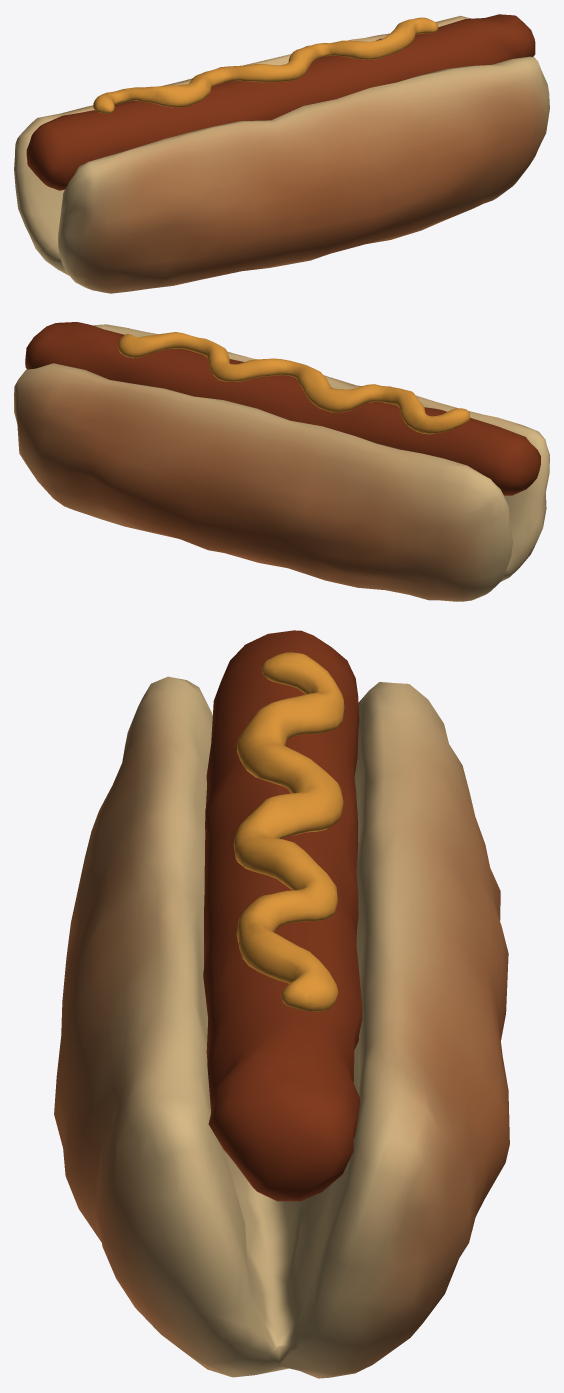
The model's file is hot-dog.glb.
3 renders of one model, top to bottom at view 1: azimuth 30°, elevation 25°; view 2: azimuth 150°, elevation 25°; view 3: azimuth 270°, elevation 25°, orthographic. The views are drawn at different scales.
Visible parts, largest first — view 1: Object_5; view 2: Object_5; view 3: Object_5.
Boxes of the visible parts, bbox=[...] form: Object_5: bbox=[14, 14, 549, 293]; Object_5: bbox=[14, 322, 549, 601]; Object_5: bbox=[54, 630, 509, 1378].
Size of the model in its own units: 0.512 by 0.1839 by 0.2028.
1 material, 1 textured.
